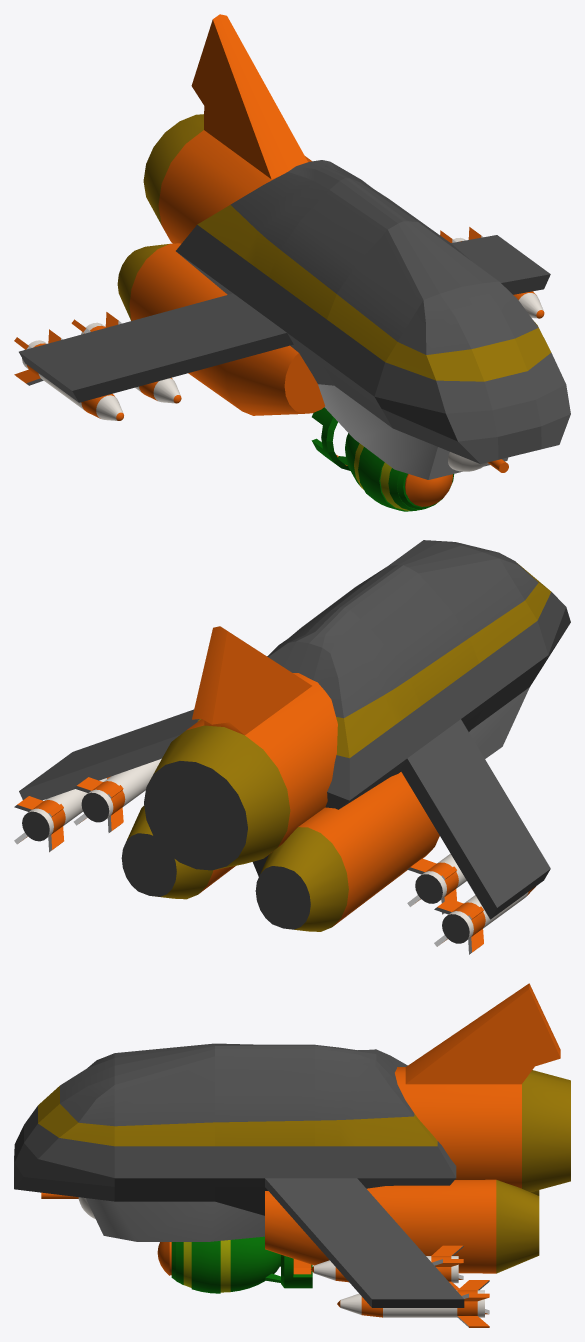
The model's file is Spaceship.fbx.
The picture shows the model from 3 angles, top to bottom: view 1: azimuth 30°, elevation 25°; view 2: azimuth 150°, elevation 25°; view 3: azimuth 270°, elevation 25°; orthographic projection. The views are drawn at different scales.
Visible parts, largest first — view 1: Runko, Päämoottori, Apumoottori2, Ase1, Nuke3, Ohjus1, Ohjus3, pCylinder1, Ohjus2; view 2: Runko, Päämoottori, Apumoottori2, Apumoottori1, Ohjus4, Ohjus2, Ohjus1, Ohjus3, Ase1; view 3: Runko, Päämoottori, Apumoottori1, Ase1, Nuke3, Ohjus2, Ohjus4, pCylinder1.
Part boxes in pixels (bbox=[...]): Runko: bbox=[19, 160, 570, 464]; Päämoottori: bbox=[143, 14, 311, 243]; Apumoottori2: bbox=[117, 243, 324, 415]; Ase1: bbox=[318, 384, 508, 479]; Nuke3: bbox=[337, 433, 454, 511]; Ohjus1: bbox=[14, 329, 123, 420]; Ohjus3: bbox=[71, 312, 181, 403]; pCylinder1: bbox=[311, 407, 350, 470]; Ohjus2: bbox=[453, 227, 544, 318]; Runko: bbox=[19, 540, 570, 919]; Päämoottori: bbox=[144, 626, 337, 870]; Apumoottori2: bbox=[255, 772, 439, 931]; Apumoottori1: bbox=[121, 805, 235, 899]; Ohjus4: bbox=[73, 758, 161, 832]; Ohjus2: bbox=[14, 776, 110, 852]; Ohjus1: bbox=[434, 886, 535, 954]; Ohjus3: bbox=[407, 854, 466, 914]; Ase1: bbox=[469, 687, 529, 758]; Runko: bbox=[14, 1043, 464, 1307]; Päämoottori: bbox=[395, 983, 570, 1192]; Apumoottori1: bbox=[265, 1179, 539, 1273]; Ase1: bbox=[86, 1198, 264, 1241]; Nuke3: bbox=[157, 1236, 280, 1293]; Ohjus2: bbox=[337, 1280, 489, 1327]; Ohjus4: bbox=[311, 1245, 463, 1290]; pCylinder1: bbox=[281, 1254, 312, 1288].
Bounding box in the file's own units: 5.53 × 3.94 × 6.49.
